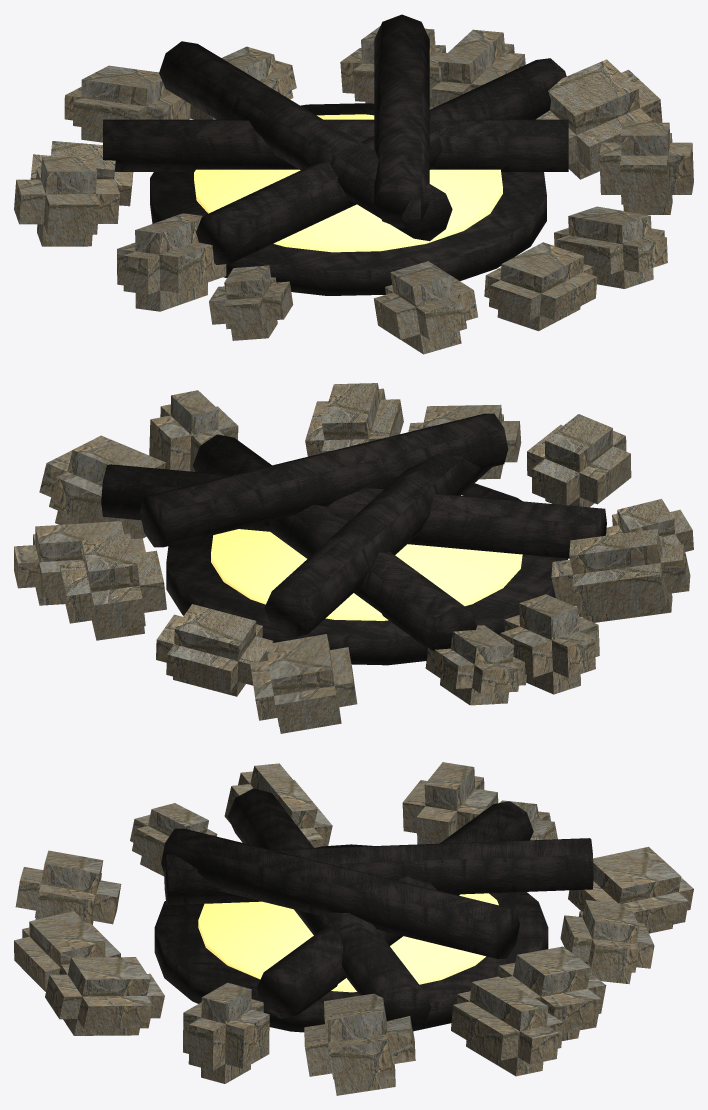
Rendered from prop_campfire_v2.glb.
The picture shows the model from 3 angles, top to bottom: view 1: azimuth 30°, elevation 25°; view 2: azimuth 150°, elevation 25°; view 3: azimuth 270°, elevation 25°; orthographic projection. The views are drawn at different scales.
Visible parts, largest first — view 1: prop_campfire_v2; view 2: prop_campfire_v2; view 3: prop_campfire_v2.
Boxes of the visible parts, x1,y1,x2,y2 form: prop_campfire_v2: [14, 14, 693, 354]; prop_campfire_v2: [14, 383, 693, 733]; prop_campfire_v2: [14, 762, 693, 1095].
Size of the model in its own units: 1.21 by 0.2477 by 1.24.
Materials: 3 (2 with a texture image).
